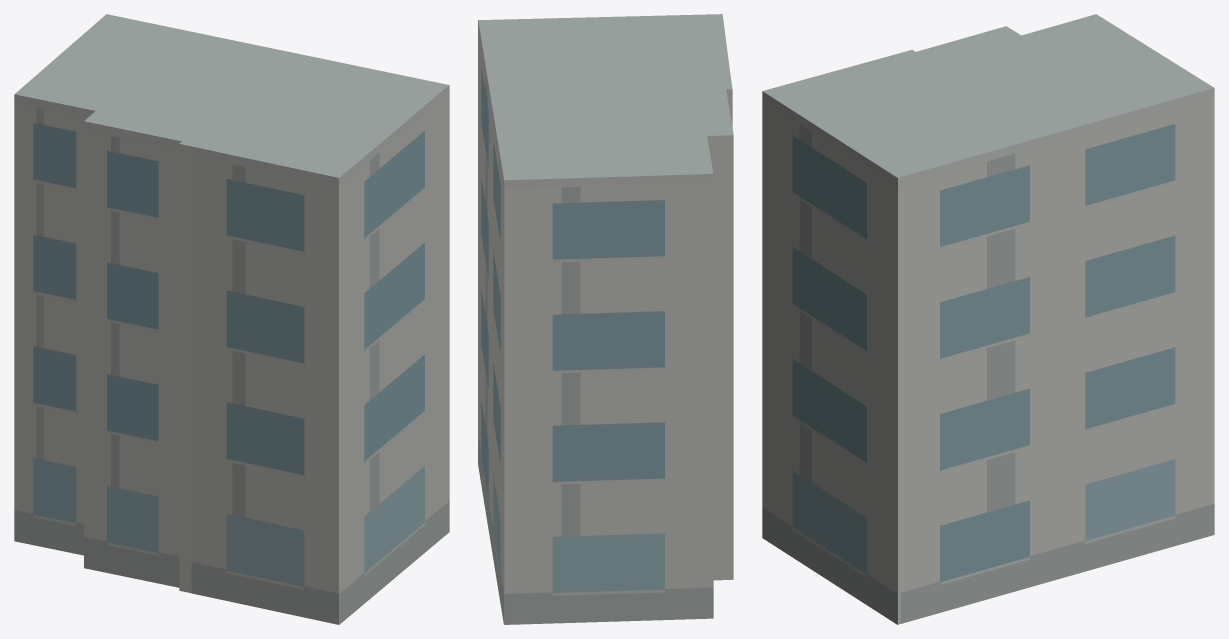
Rendered from residential-618b9b12-61cb-4867-a7e4-b04ddea76eed.glb.
3 views of the same model, side by side, from view 1: azimuth 30°, elevation 25°; view 2: azimuth 150°, elevation 25°; view 3: azimuth 270°, elevation 25° (orthographic).
Parts seen in each view (by area): view 1: residential-618b9b12-61cb-4867-a7e4-b04ddea76eed.tmp; view 2: residential-618b9b12-61cb-4867-a7e4-b04ddea76eed.tmp; view 3: residential-618b9b12-61cb-4867-a7e4-b04ddea76eed.tmp.
Boxes of the visible parts, x1,y1,x2,y2 form: residential-618b9b12-61cb-4867-a7e4-b04ddea76eed.tmp: [14, 14, 449, 624]; residential-618b9b12-61cb-4867-a7e4-b04ddea76eed.tmp: [478, 14, 733, 624]; residential-618b9b12-61cb-4867-a7e4-b04ddea76eed.tmp: [762, 14, 1214, 624].
Size of the model in its own units: 9.61 by 12.2 by 11.2.
